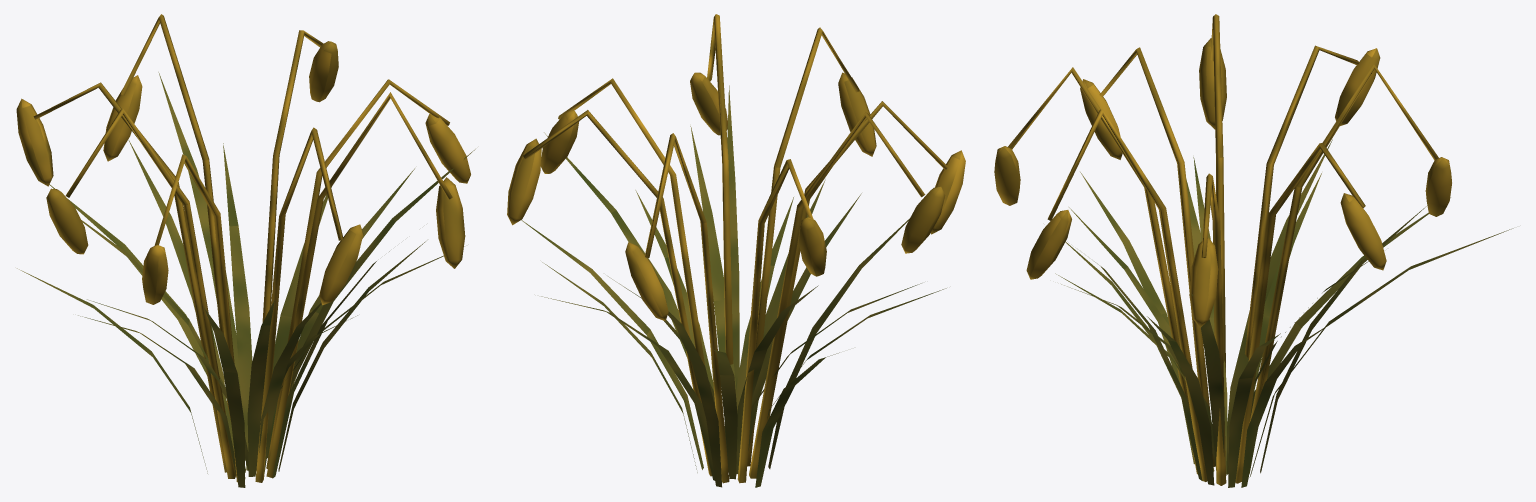
The model's file is paddy_clump_golden.glb.
3 views of the same model, side by side, from view 1: azimuth 30°, elevation 25°; view 2: azimuth 150°, elevation 25°; view 3: azimuth 270°, elevation 25° (orthographic). The views are drawn at different scales.
Visible parts, largest first — view 1: Paddy_GoldenPanicles, Paddy_Stalks; view 2: Paddy_GoldenPanicles, Paddy_Stalks; view 3: Paddy_GoldenPanicles, Paddy_Stalks.
Boxes of the visible parts, x1=… form: Paddy_GoldenPanicles: x1=16, y1=14, x2=470, y2=482; Paddy_Stalks: x1=17, y1=72, x2=475, y2=487; Paddy_GoldenPanicles: x1=507, y1=14, x2=965, y2=483; Paddy_Stalks: x1=521, y1=85, x2=946, y2=487; Paddy_GoldenPanicles: x1=994, y1=14, x2=1451, y2=485; Paddy_Stalks: x1=1055, y1=139, x2=1513, y2=487.
Bounding box in the file's own units: 0.8911 × 0.8245 × 0.9728.
Materials: 2 (2 with a texture image).
